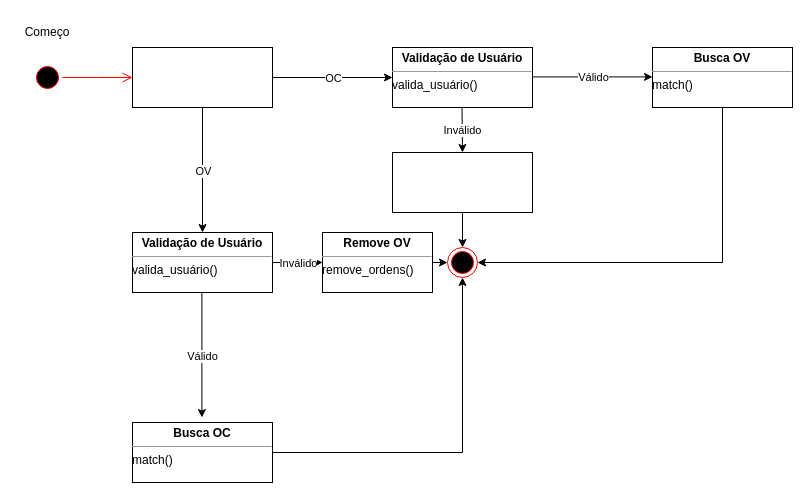
This 810x500 diagram has some shape labels left out. Here are the shapes that lost their labels. From the top down, the centre of each, then its label:
At point (202, 77): "Ordem novo()".
At point (462, 182): "Remove OC remove_ordens()".
